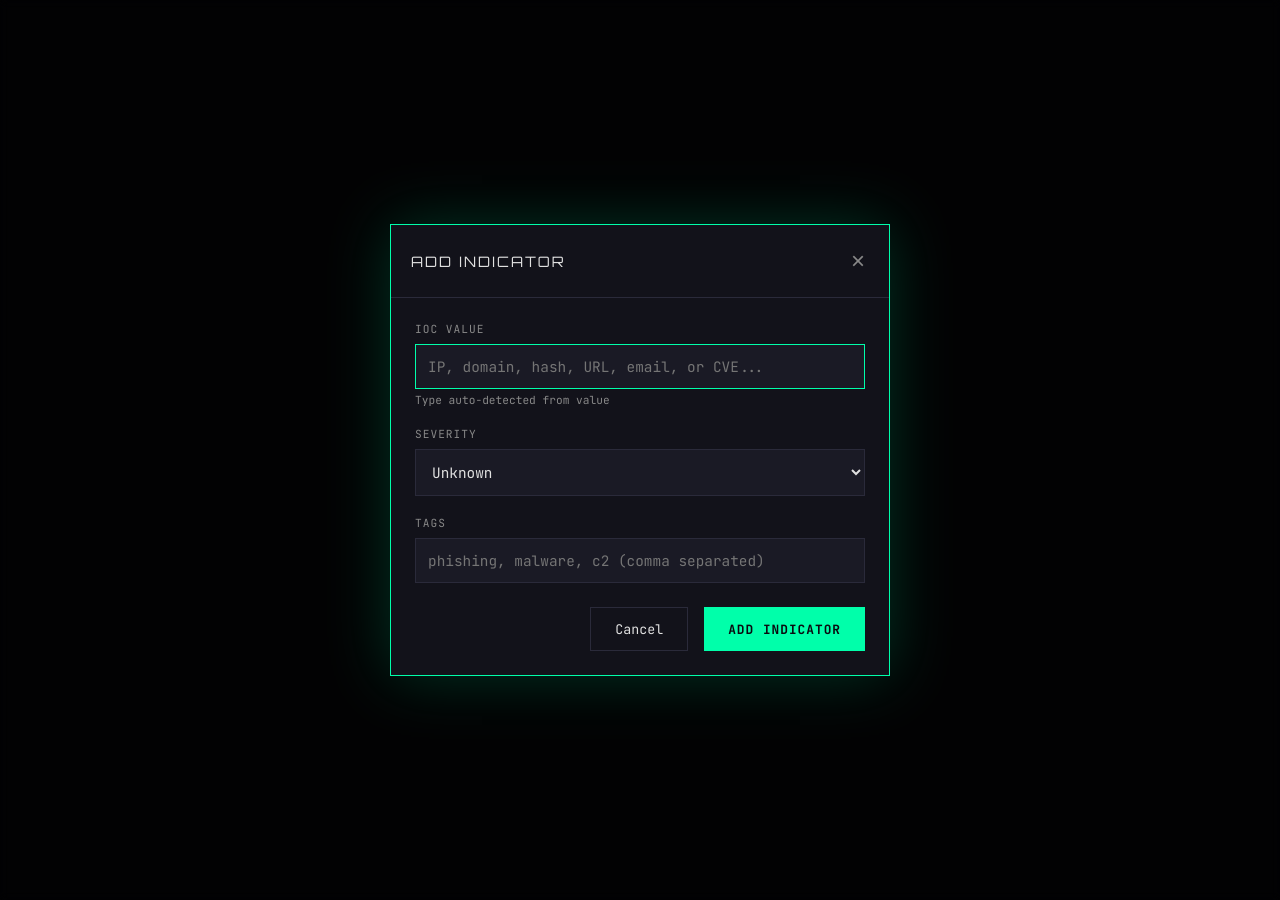
it: keeps the form open when submit fails
Step 1. Type "evil.example" into the field labelled "IOC Value" → (640, 366), box [415, 344, 865, 389]
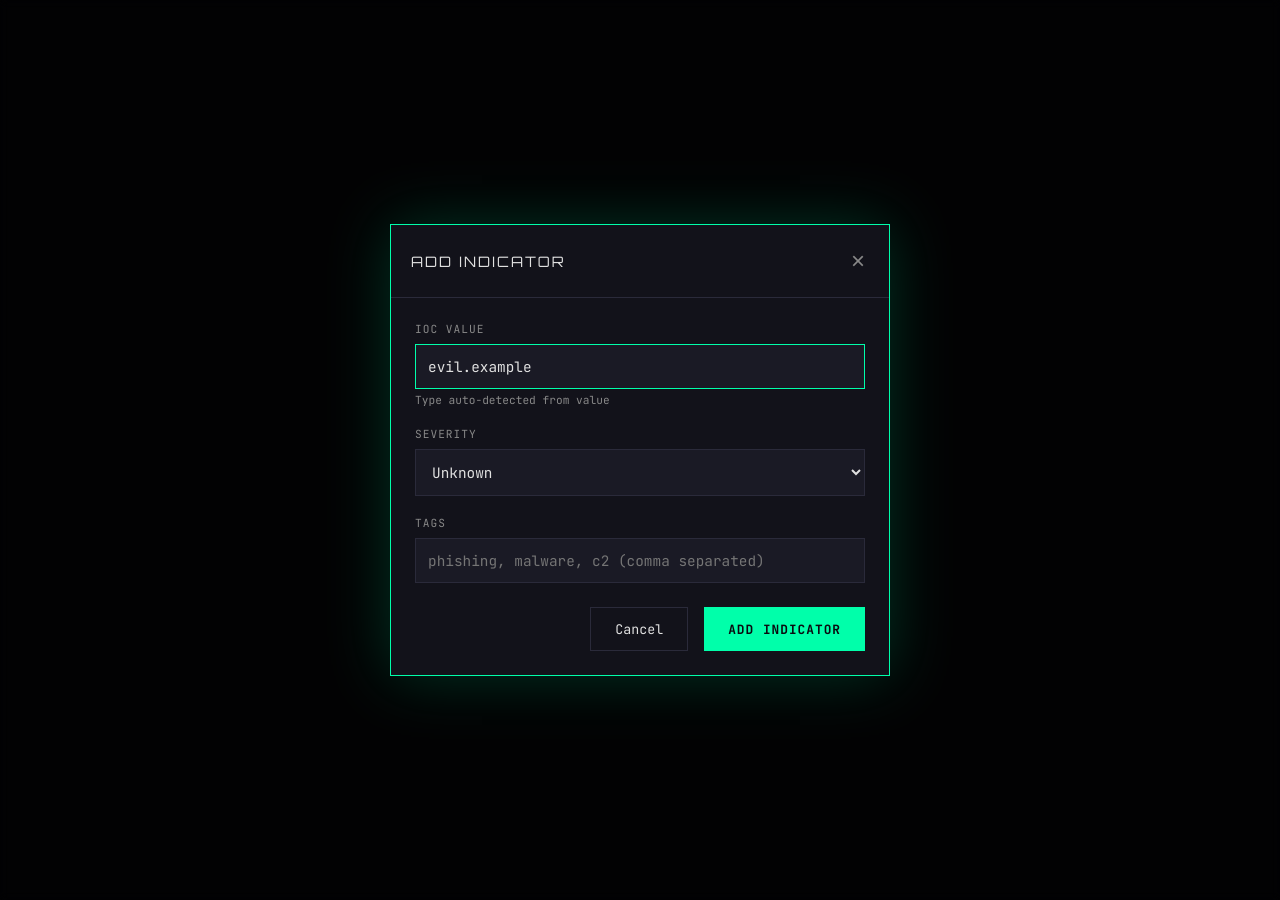
Step 2. Click the button "Add Indicator" → (785, 629), box [704, 607, 865, 651]
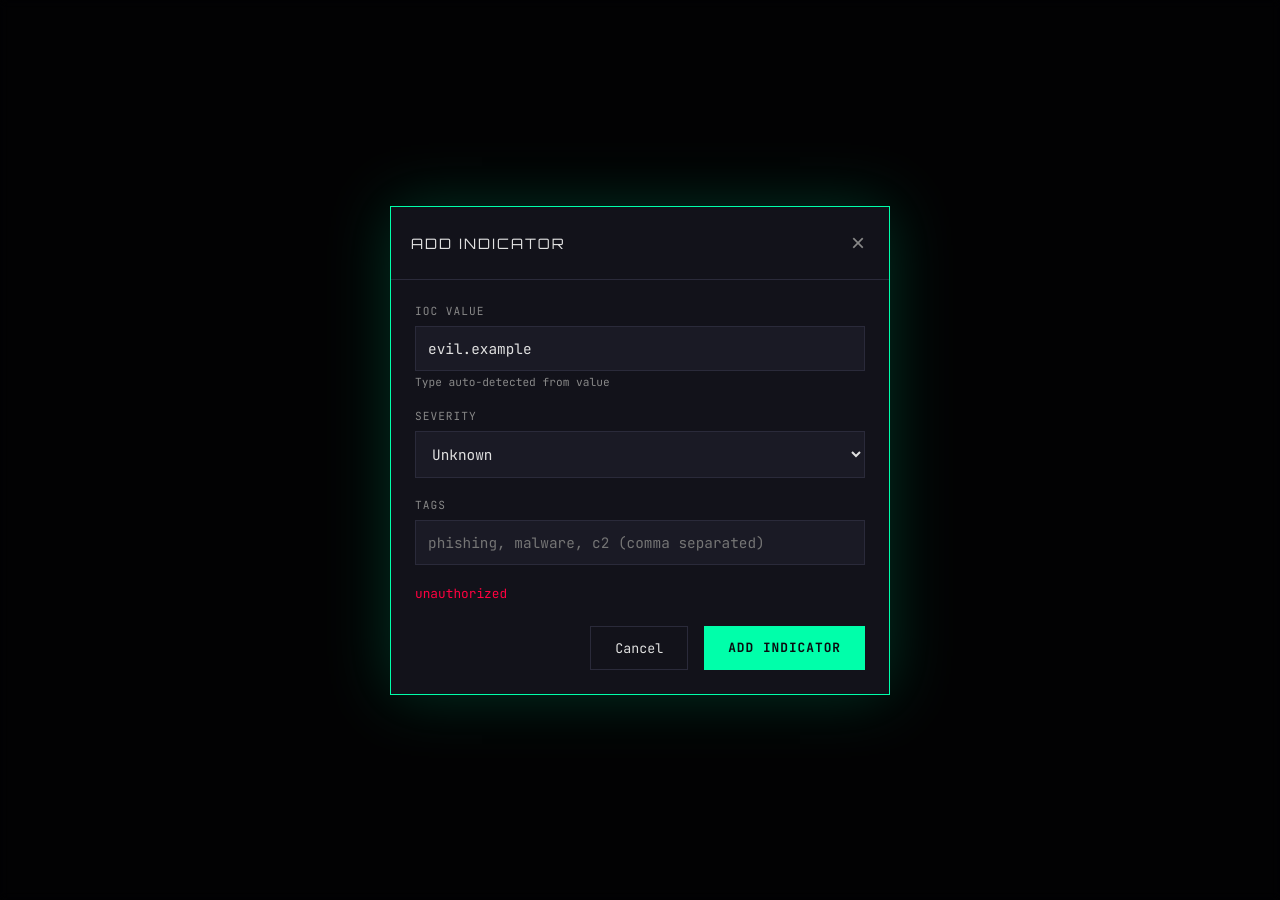
Expected: the message reads "unauthorized", [415, 584, 507, 602]
